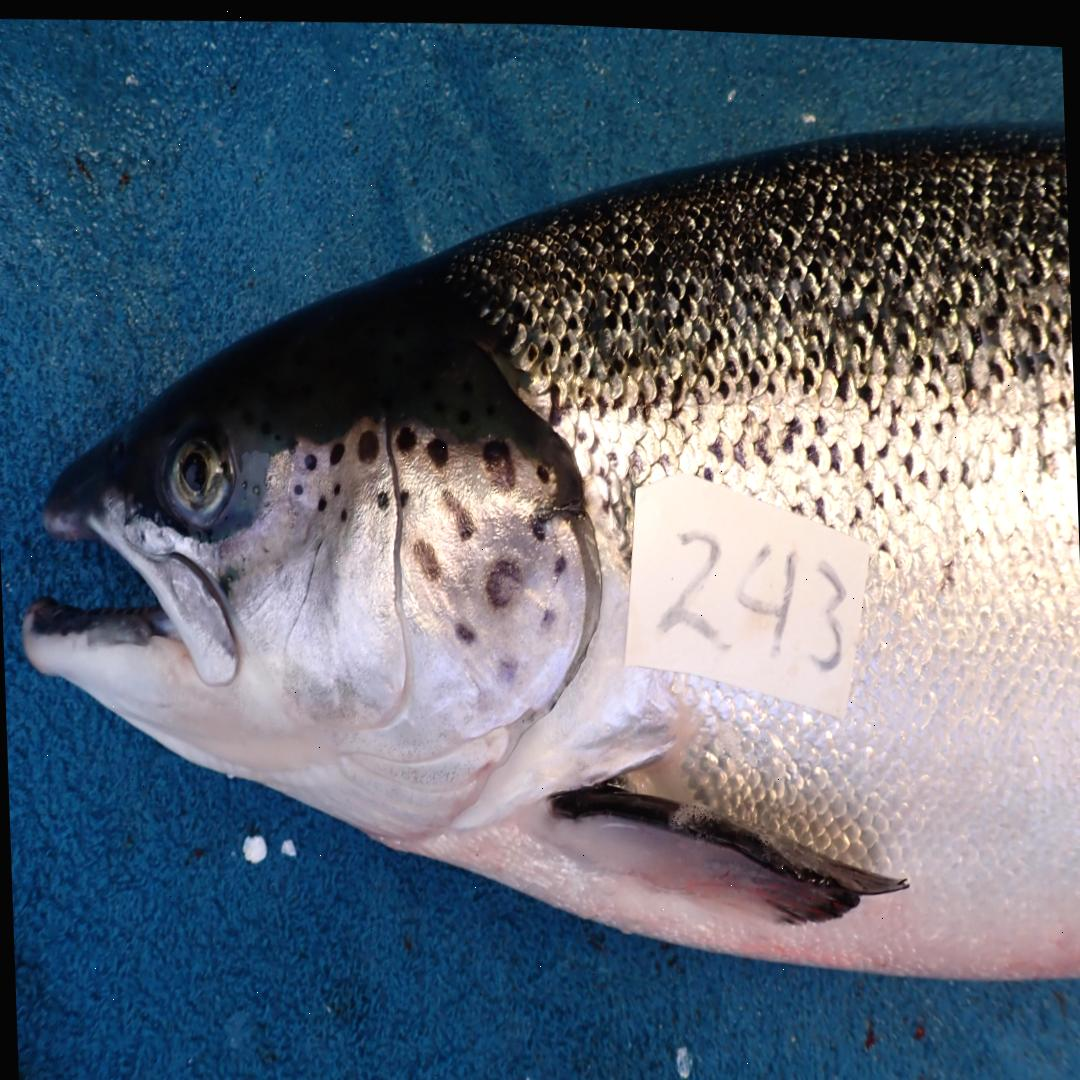spot: (485, 555, 521, 604), (482, 434, 515, 486), (443, 486, 474, 535), (412, 535, 441, 578), (530, 497, 559, 535), (357, 425, 379, 457), (426, 434, 448, 463), (496, 652, 518, 681), (396, 423, 417, 448), (454, 618, 476, 638), (329, 437, 344, 460), (540, 604, 557, 624), (553, 549, 566, 575), (536, 460, 550, 477), (377, 487, 388, 506), (304, 451, 317, 466), (292, 480, 305, 492), (400, 486, 408, 503), (318, 494, 327, 509), (340, 505, 347, 518), (333, 479, 340, 492)
